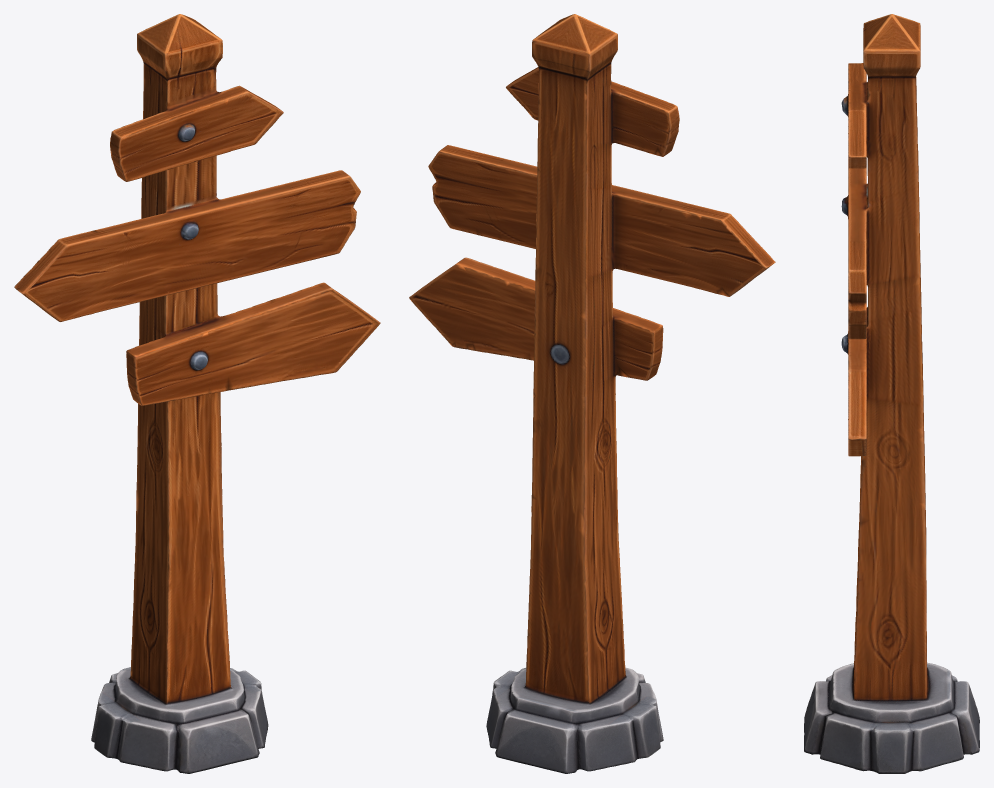
Rendered from Fast_travel.glb.
3 views of the same model, side by side, from view 1: azimuth 30°, elevation 25°; view 2: azimuth 150°, elevation 25°; view 3: azimuth 270°, elevation 25° (orthographic).
Size of the model in its own units: 0.9901 by 1.9 by 0.4194.
1 material, 1 textured.
